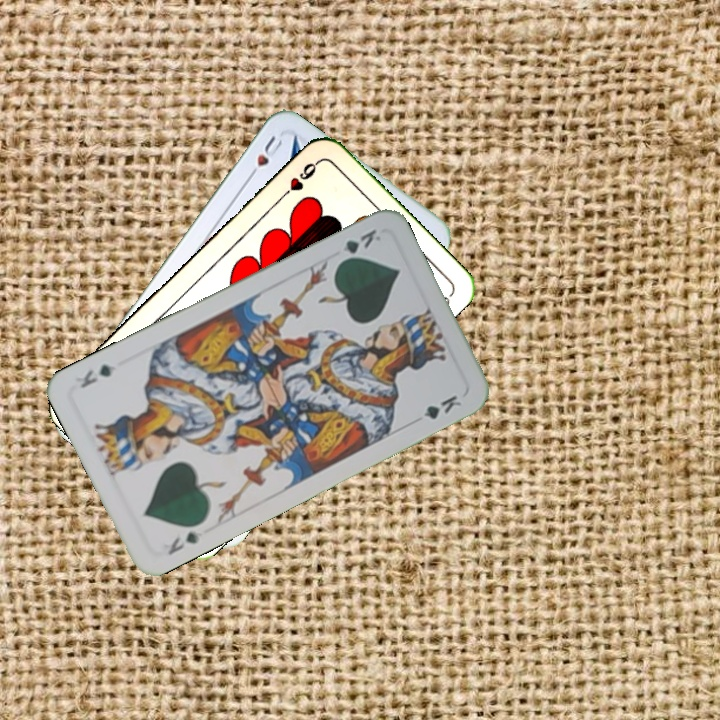GK: (333, 225, 384, 267), (163, 526, 206, 558)
H9: (276, 156, 322, 202)
HU: (243, 131, 287, 183)
